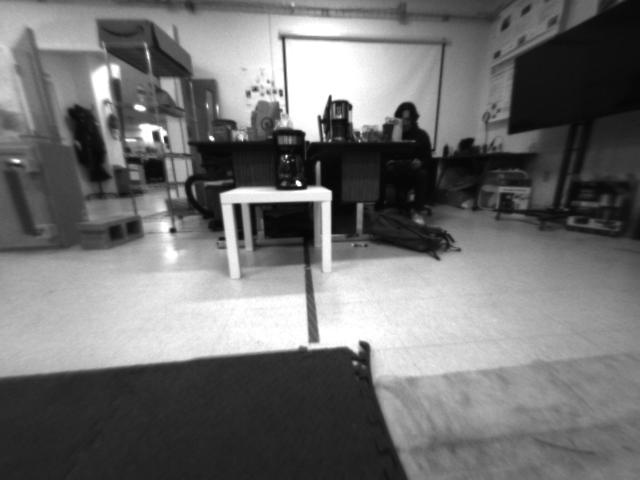coffee_pot: (268, 125, 310, 197)
